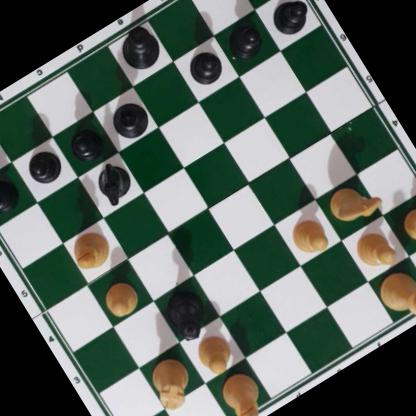black-bishop: (103, 96, 156, 148)
black-king: (110, 20, 168, 78)
black-knight: (86, 155, 139, 210)
black-pawn: (21, 144, 66, 190), (182, 43, 227, 89), (63, 121, 108, 167), (222, 17, 267, 62), (265, 0, 314, 41), (0, 173, 21, 218)
black-queen: (157, 281, 219, 347)
black-rook: (0, 121, 3, 182)
white-bishop: (215, 366, 274, 416), (64, 224, 117, 276)
white-king: (370, 258, 416, 334)
white-knight: (320, 172, 385, 233)
white-pawn: (347, 222, 401, 277), (284, 210, 335, 262), (189, 328, 239, 381), (97, 275, 145, 323), (396, 199, 416, 250)
white-rook: (142, 352, 199, 413)
